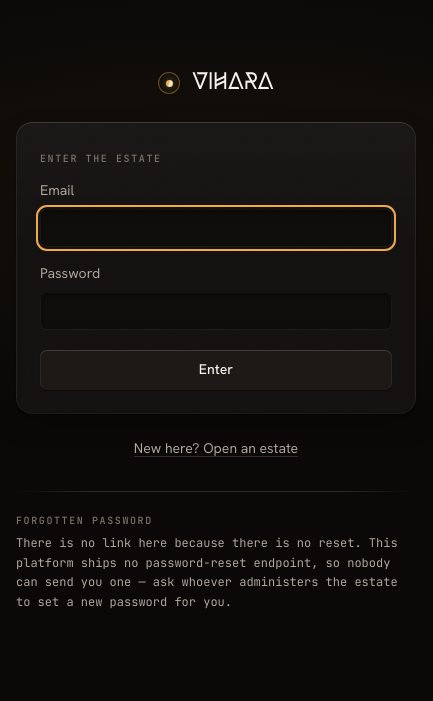
Test: pre-session (A1) › asks for a name only when an estate is being opened
This screenshot has width=433, height=701.
Expected: the text "Your name" is not shown
Click the button "New here? Open an estate" at (216, 448), box [122,430,310,467]
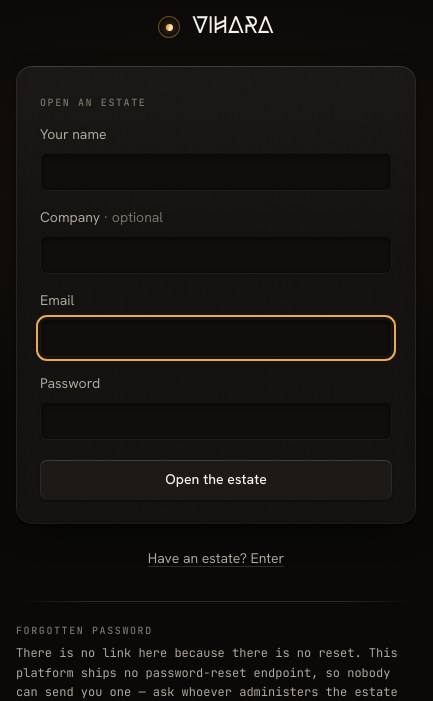
Expected: the text "Your name" is shown, [40,125,106,143]
